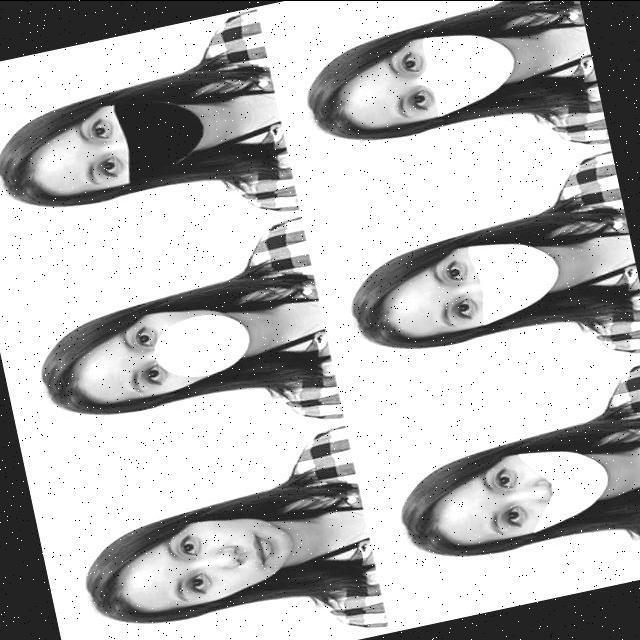mask: (100, 94, 198, 178), (158, 319, 255, 390), (423, 36, 509, 106), (466, 243, 541, 316), (534, 462, 600, 524)
no_gloves: (29, 336, 115, 410), (3, 118, 66, 202), (393, 486, 455, 556), (74, 550, 142, 610), (307, 54, 354, 138), (348, 264, 390, 346)
no_hairnet: (215, 532, 268, 584)
